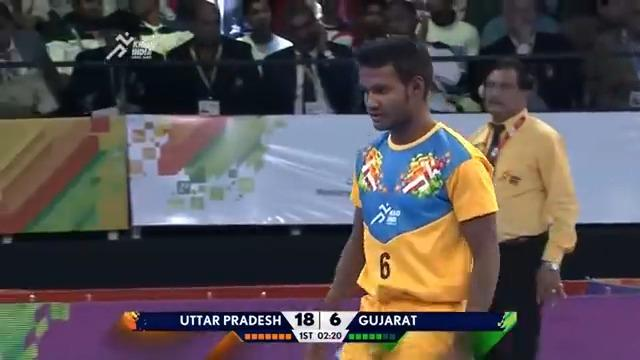Raider: (321, 36, 501, 358)
referee: (463, 55, 579, 358), (261, 0, 364, 114), (163, 0, 260, 115), (231, 0, 298, 113)
